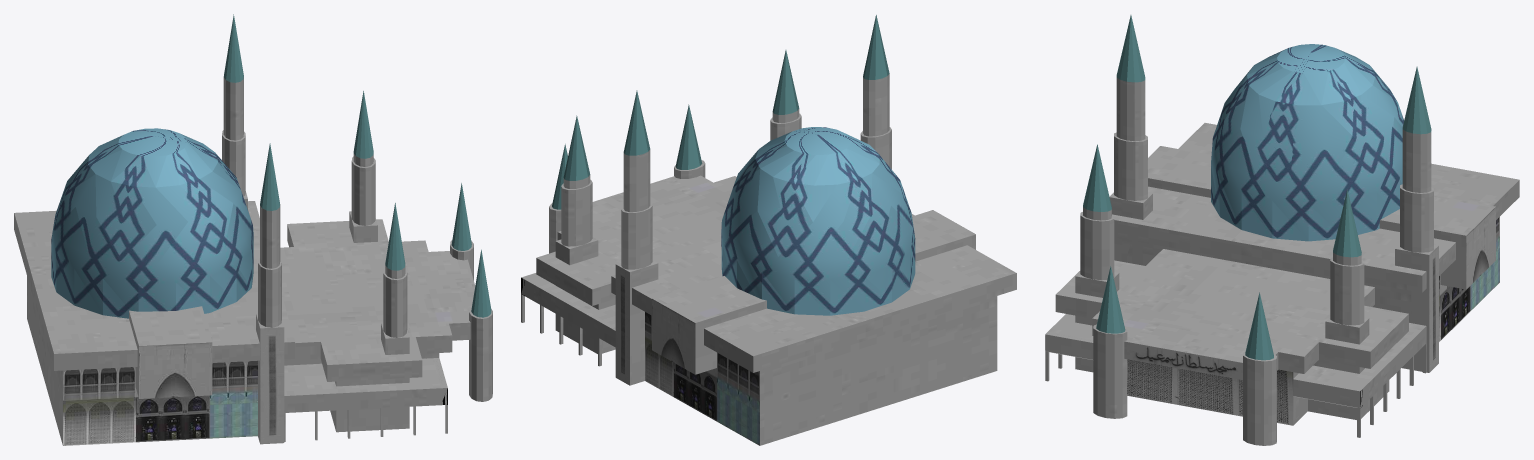
Rendered from Masjid.obj.
3 views of the same model, side by side, from view 1: azimuth 30°, elevation 25°; view 2: azimuth 150°, elevation 25°; view 3: azimuth 270°, elevation 25° (orthographic). The views are drawn at different scales.
Visible parts, largest first — view 1: Mesh15 Model, Mesh14 kubah1 Model, Mesh23 Model, Mesh25 Model, Mesh27 Model, Mesh24 Model, Mesh16 Model, Mesh18 Model, Mesh21 Model, Mesh22 Model, Mesh1 kon1 Model, Mesh9 kon5 Model (+4 smaller); view 2: Mesh15 Model, Mesh14 kubah1 Model, Mesh23 Model, Mesh22 Model, Mesh27 Model, Mesh21 Model, Mesh18 Model, Mesh1 kon1 Model, Mesh7 kon4 Model, Mesh5 kon3 Model, Mesh9 kon5 Model, Mesh3 kon2 Model (+1 smaller); view 3: Mesh15 Model, Mesh14 kubah1 Model, Mesh23 Model, Mesh25 Model, Mesh28 Model, Mesh17 Model, Mesh27 Model, Mesh24 Model, Mesh22 Model, Mesh16 Model, Mesh21 Model, Mesh18 Model (+6 smaller).
Boxes of the visible parts, x1,y1,x2,y2 form: Mesh15 Model: (27,191,475,445); Mesh14 kubah1 Model: (51,128,253,318); Mesh23 Model: (14,201,294,370); Mesh25 Model: (469,306,492,401); Mesh27 Model: (351,156,375,225); Mesh24 Model: (383,268,407,337); Mesh16 Model: (258,258,281,327); Mesh18 Model: (260,204,280,268); Mesh21 Model: (223,77,243,140); Mesh22 Model: (222,130,245,196); Mesh1 kon1 Model: (223,14,243,82); Mesh9 kon5 Model: (471,249,491,317); Mesh15 Model: (521,175,997,445); Mesh14 kubah1 Model: (721,127,915,315); Mesh23 Model: (611,214,1016,372); Mesh22 Model: (621,202,652,269); Mesh27 Model: (561,179,592,246); Mesh21 Model: (623,149,650,212); Mesh18 Model: (863,74,889,136); Mesh1 kon1 Model: (623,90,650,155); Mesh7 kon4 Model: (563,115,590,180); Mesh5 kon3 Model: (772,50,799,114); Mesh9 kon5 Model: (675,104,702,169); Mesh3 kon2 Model: (863,15,889,79); Mesh15 Model: (1045,146,1499,437); Mesh14 kubah1 Model: (1211,44,1403,241); Mesh23 Model: (1112,123,1519,292); Mesh25 Model: (1093,324,1127,418); Mesh28 Model: (1243,351,1276,445); Mesh17 Model: (1045,334,1360,423); Mesh27 Model: (1330,257,1364,325); Mesh24 Model: (1080,212,1114,280); Mesh22 Model: (1400,184,1433,252); Mesh16 Model: (1114,132,1147,200); Mesh21 Model: (1402,129,1431,192); Mesh18 Model: (1116,78,1145,141).
Bounding box in the file's own units: 96.57 × 60.78 × 87.24.
